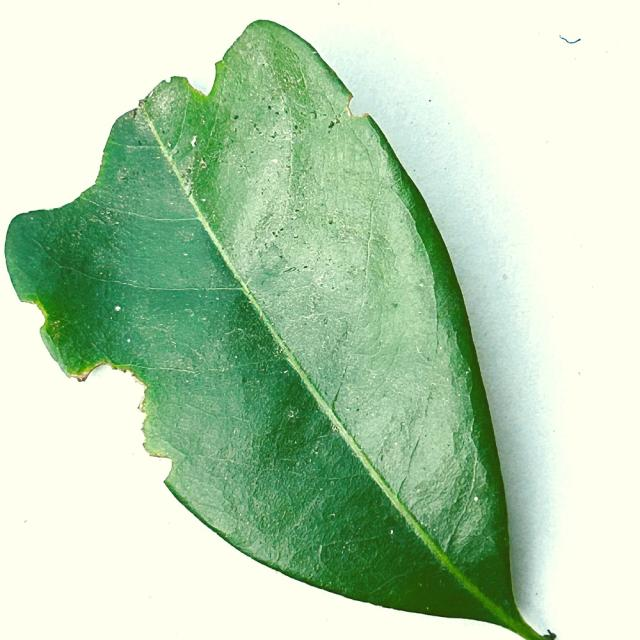Deficiency Leaf: (38, 367, 167, 496), (336, 63, 388, 129), (179, 35, 236, 95), (14, 268, 59, 332)
Lychee: (3, 19, 550, 639)
